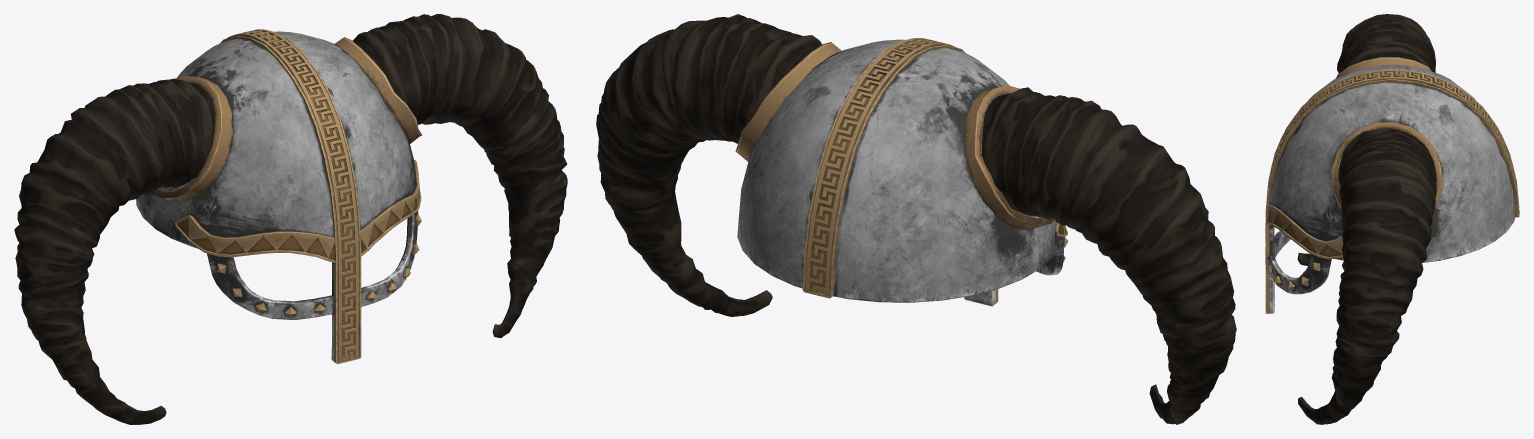
Rendered from viking_helmet.gltf.
3 renders of one model, left to right at view 1: azimuth 30°, elevation 25°; view 2: azimuth 150°, elevation 25°; view 3: azimuth 270°, elevation 25°, orthographic. The views are drawn at different scales.
Visible parts, largest first — view 1: hornsZbr2:hornsZbr2:polySurface2, polySurface9, polySurface33, polySurface8, polySurface37, polySurface38, pCube8; view 2: hornsZbr2:hornsZbr2:polySurface2, polySurface9, polySurface33, polySurface37, polySurface38; view 3: hornsZbr2:hornsZbr2:polySurface2, polySurface9, polySurface33, polySurface8, polySurface38, polySurface37, pCube8.
Boxes of the visible parts, x1,y1,x2,y2 form: hornsZbr2:hornsZbr2:polySurface2: (14,14,567,424); polySurface9: (136,31,418,362); polySurface33: (220,29,361,364); polySurface8: (175,160,421,263); polySurface37: (150,76,232,201); polySurface38: (335,37,422,143); pCube8: (217,215,421,318); hornsZbr2:hornsZbr2:polySurface2: (596,14,1236,424); polySurface9: (737,39,1064,306); polySurface33: (802,38,998,303); polySurface37: (964,85,1054,230); polySurface38: (735,42,841,161); hornsZbr2:hornsZbr2:polySurface2: (1297,14,1436,424); polySurface9: (1268,64,1515,313); polySurface33: (1265,69,1519,313); polySurface8: (1266,204,1343,259); polySurface38: (1331,122,1443,208); polySurface37: (1335,57,1431,78); pCube8: (1266,232,1320,291).
Size of the model in its own units: 0.0348 by 0.0188 by 0.0161.
4 materials, 4 textured.
